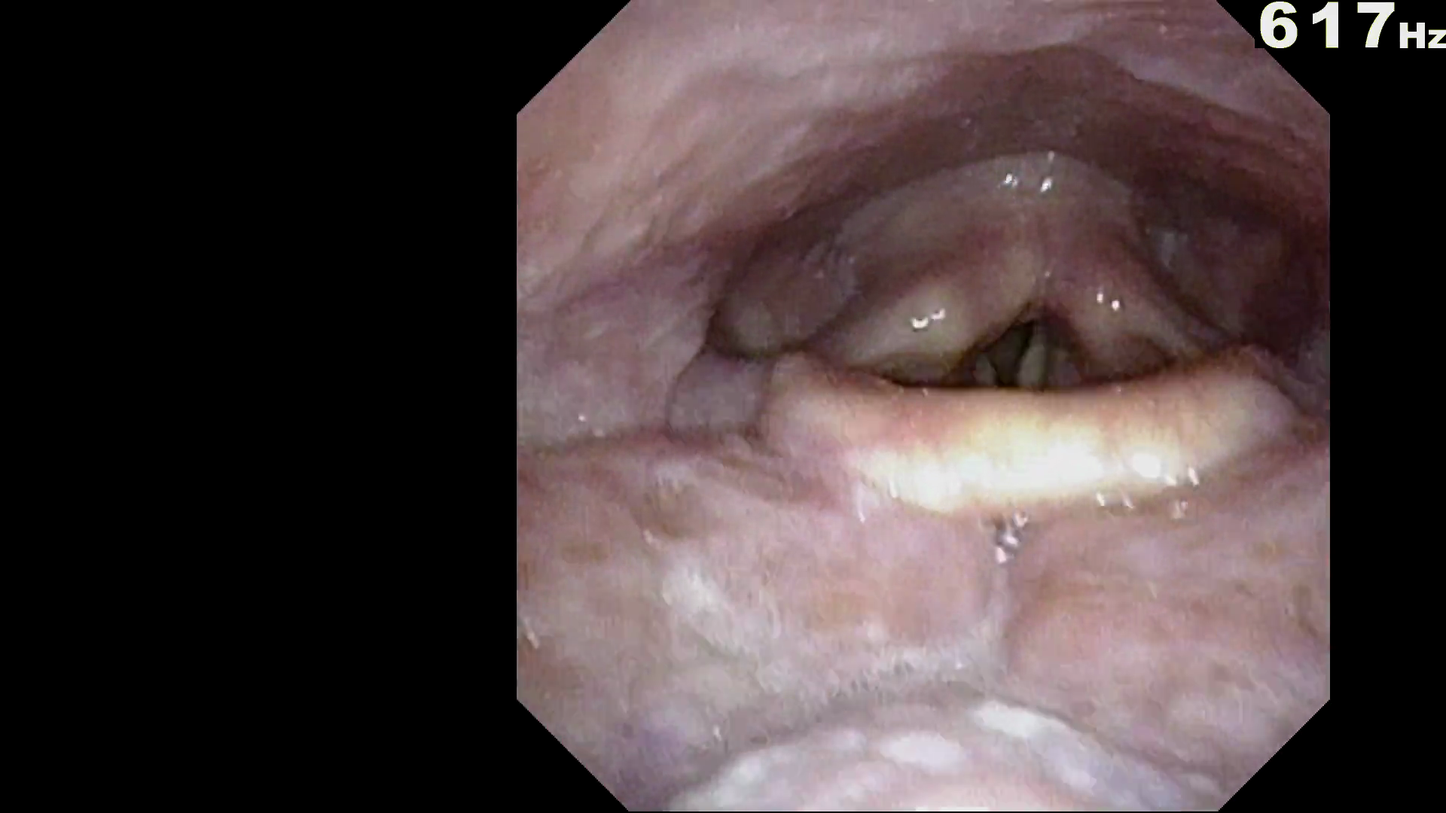epiglottis: (721, 315, 1319, 594)
trachea: (922, 256, 1108, 490)
